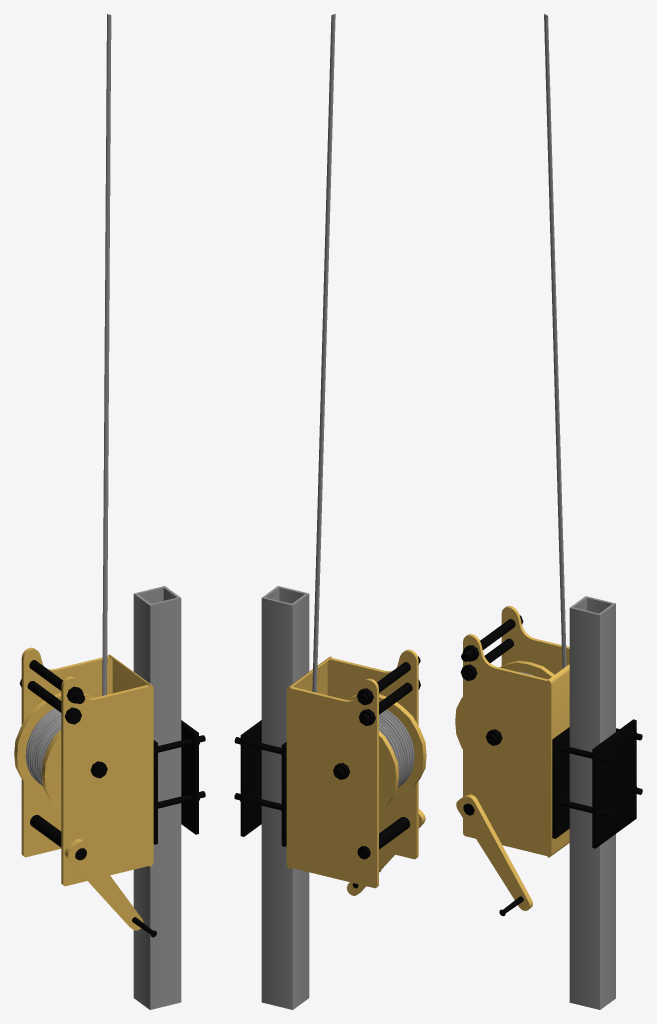
The picture shows the model from 3 angles, left to right: view 1: azimuth 30°, elevation 25°; view 2: azimuth 150°, elevation 25°; view 3: azimuth 330°, elevation 25°; orthographic projection. The views are drawn at different scales.
Visible parts, largest first — view 1: SM_PN817SR; view 2: SM_PN817SR; view 3: SM_PN817SR.
Part boxes in pixels (x1=…): SM_PN817SR: x1=14, y1=14, x2=205, y2=1009; SM_PN817SR: x1=234, y1=14, x2=426, y2=1009; SM_PN817SR: x1=455, y1=14, x2=642, y2=1009.
Bounding box in the file's own units: 228 × 1365 × 178.
